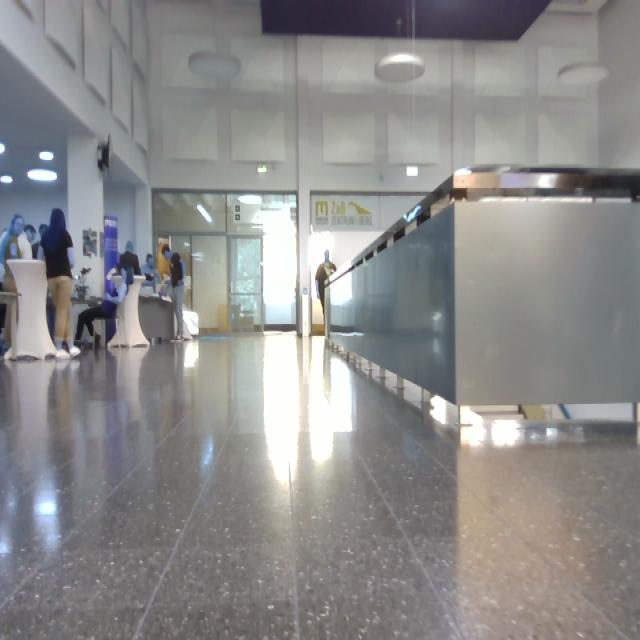desk: (140, 299, 176, 342), (112, 1, 131, 48)
door: (192, 236, 229, 333)
light bulb: (190, 51, 241, 80), (376, 54, 426, 82), (559, 63, 610, 86), (29, 169, 59, 182), (197, 206, 212, 224), (239, 196, 262, 206), (40, 153, 54, 162), (1, 176, 12, 184), (2, 143, 6, 155)
person: (39, 209, 81, 359), (76, 271, 129, 347), (1, 216, 26, 359), (164, 246, 185, 340), (316, 251, 337, 314), (142, 254, 162, 292), (120, 241, 141, 276), (20, 224, 37, 260)
staircase: (327, 169, 640, 406)
table: (9, 261, 57, 360), (109, 278, 150, 349)
tiled floor: (1, 334, 640, 639)
